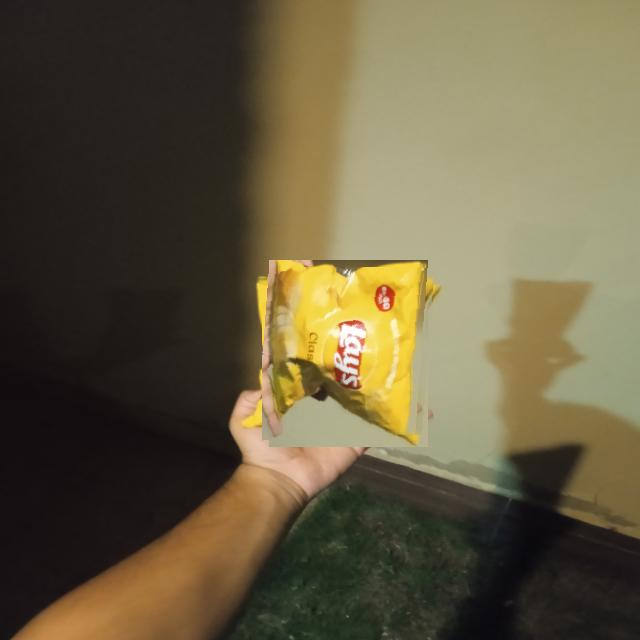Plastic: (262, 267, 435, 441)
